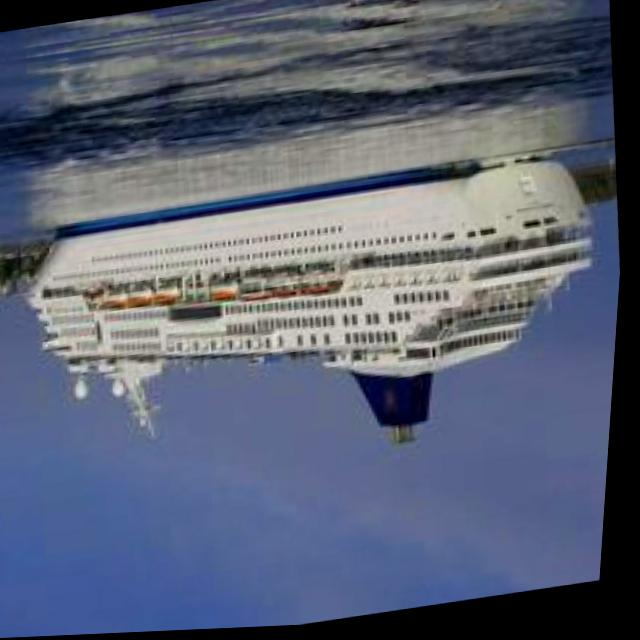ship2: (27, 157, 599, 448)
